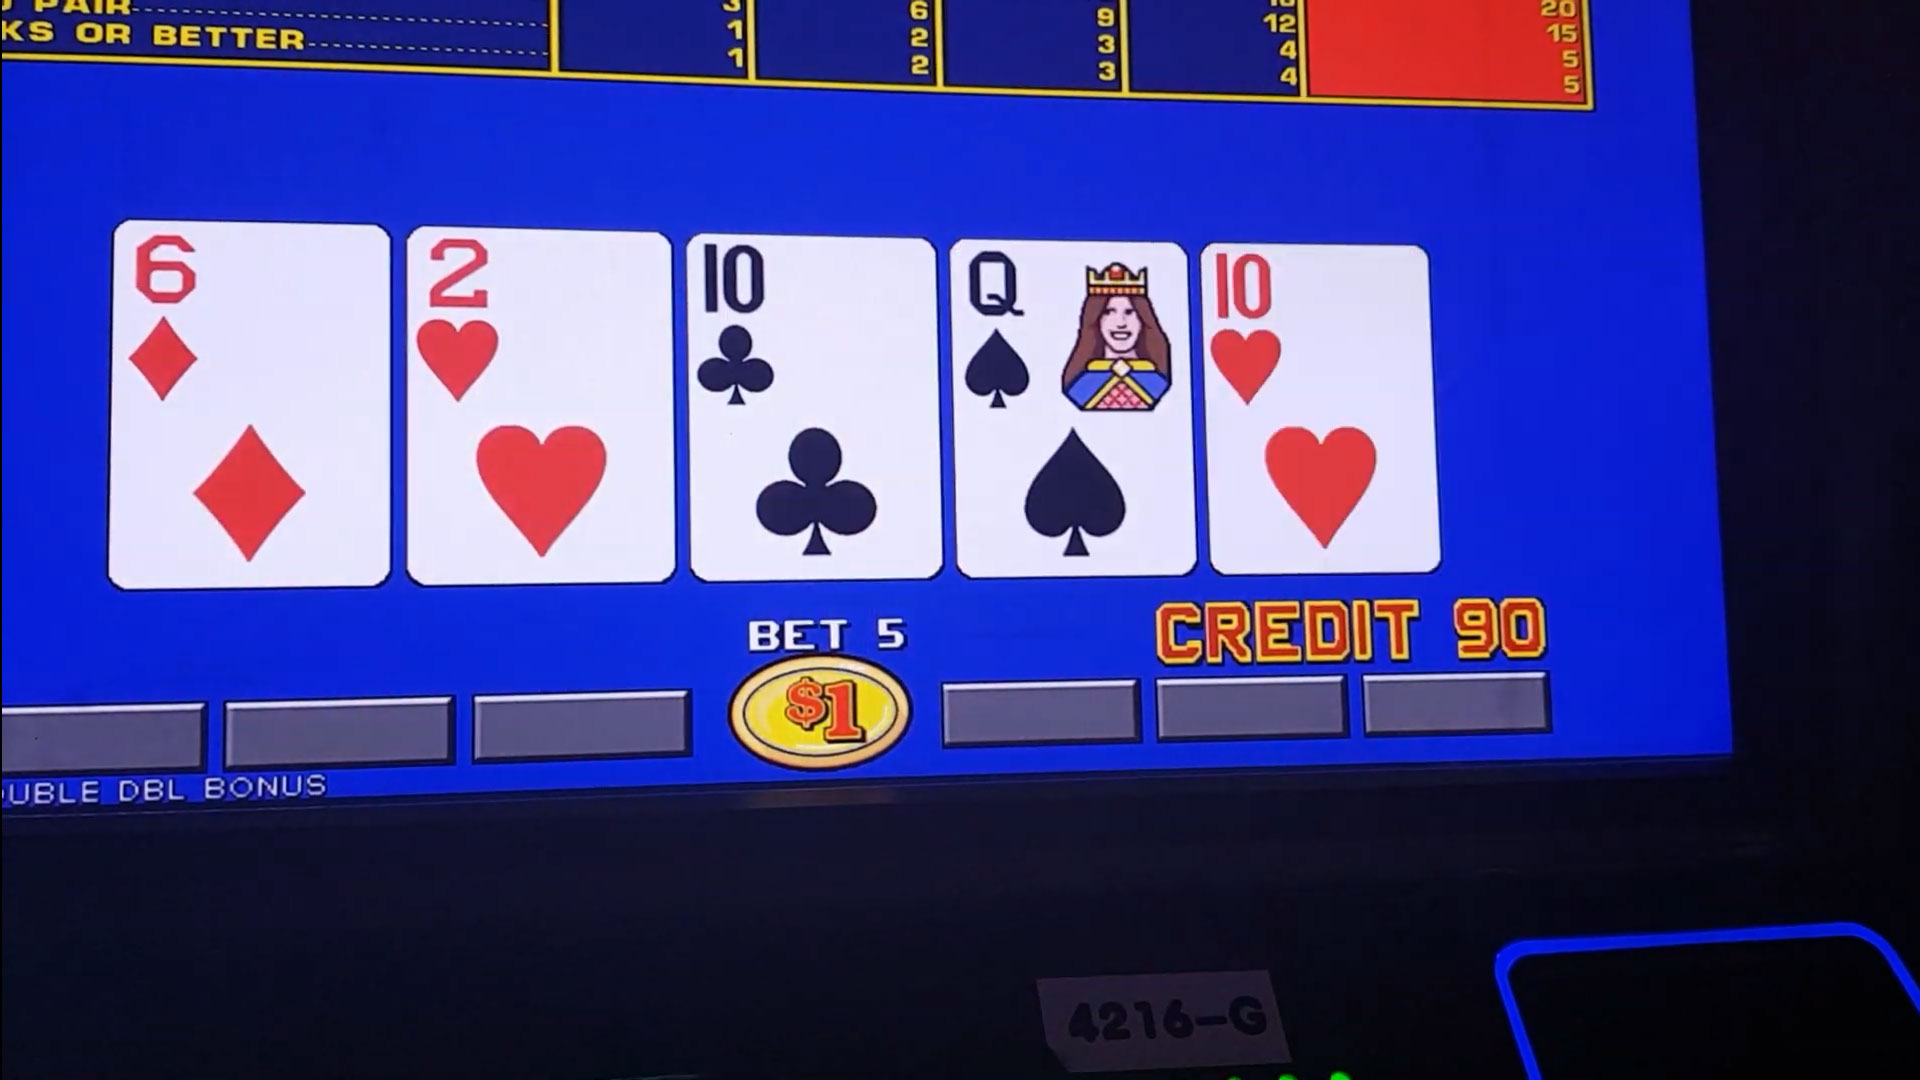CT: (694, 243, 930, 417)
D6: (128, 233, 384, 417)
H2: (410, 235, 667, 414)
HT: (1211, 251, 1425, 415)
SQ: (959, 247, 1184, 418)
